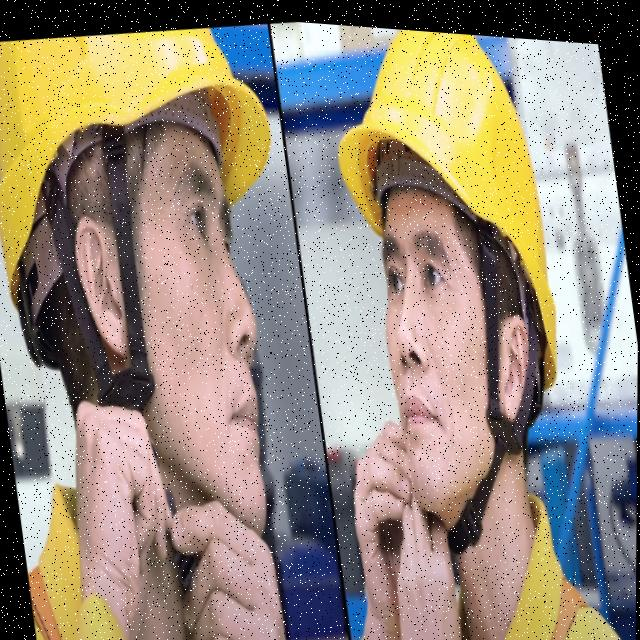illegal_helmet: (0, 5, 339, 620), (314, 18, 598, 581)
